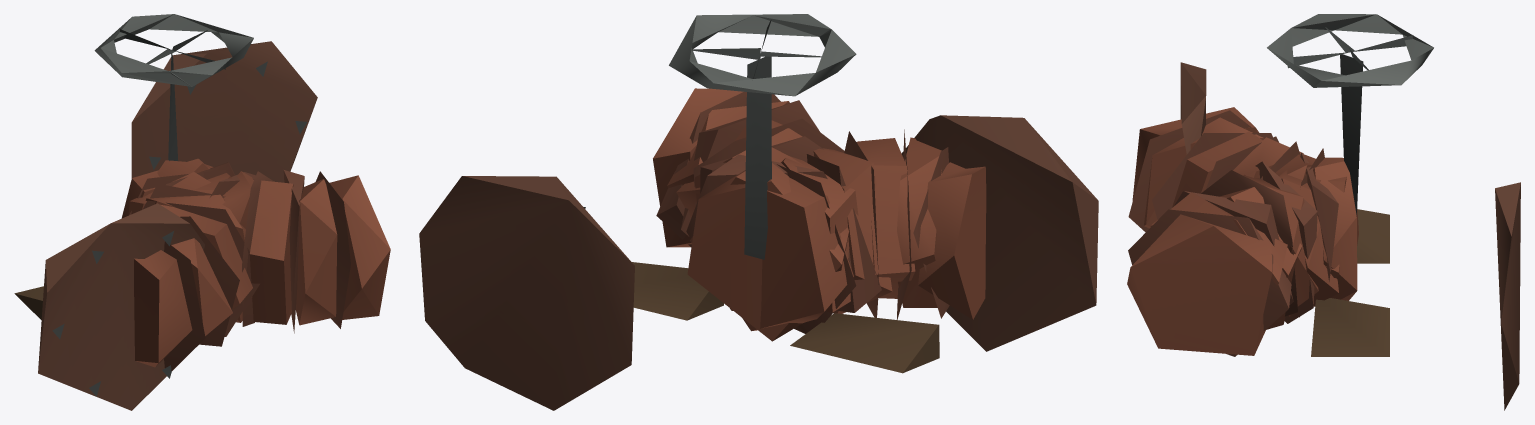
File: pump_elbow_b_lod2.glb
3 renders of one model, left to right at view 1: azimuth 30°, elevation 25°; view 2: azimuth 150°, elevation 25°; view 3: azimuth 270°, elevation 25°, orthographic. The views are drawn at different scales.
Parts seen in each view (by area): view 1: Surface.001; view 2: Surface.001; view 3: Surface.001.
Boxes of the visible parts, bbox=[...] form: Surface.001: bbox=[14, 14, 390, 410]; Surface.001: bbox=[419, 14, 1098, 410]; Surface.001: bbox=[1127, 14, 1520, 410].
Bounding box in the file's own units: 4.2 × 2.65 × 3.21.
